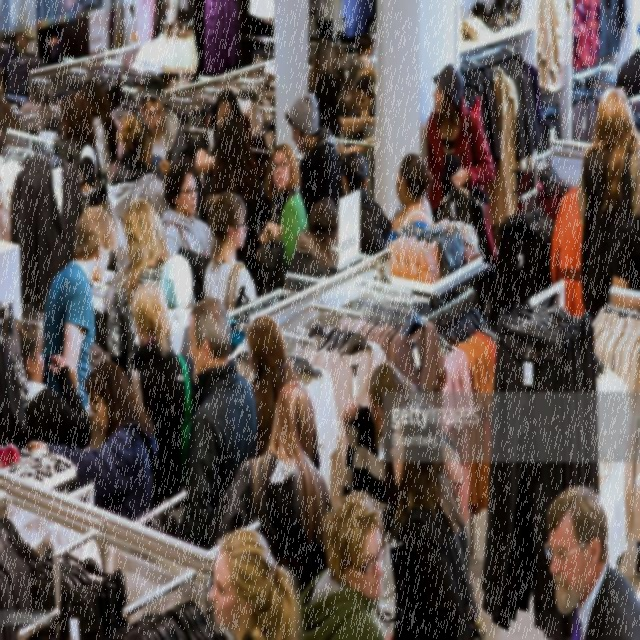pessoa: (218, 378, 334, 586), (25, 359, 158, 522), (388, 402, 479, 639), (342, 360, 464, 536), (182, 296, 258, 555), (124, 280, 196, 526), (41, 204, 118, 412), (544, 480, 640, 640), (576, 85, 640, 322), (300, 494, 390, 639), (198, 113, 268, 294), (1, 313, 92, 452), (206, 526, 308, 639), (105, 110, 173, 266), (426, 63, 496, 213), (246, 314, 303, 462), (284, 92, 340, 224), (203, 189, 258, 313), (334, 146, 394, 258), (263, 143, 310, 272), (158, 160, 218, 258), (194, 86, 244, 202), (313, 68, 376, 158), (383, 152, 436, 248), (60, 91, 101, 213), (288, 196, 339, 292), (138, 73, 187, 167), (78, 78, 120, 184), (0, 16, 38, 102), (308, 35, 337, 140), (614, 24, 640, 92), (348, 72, 376, 120), (106, 118, 125, 180), (0, 96, 18, 158), (333, 45, 349, 98), (356, 32, 374, 58)
